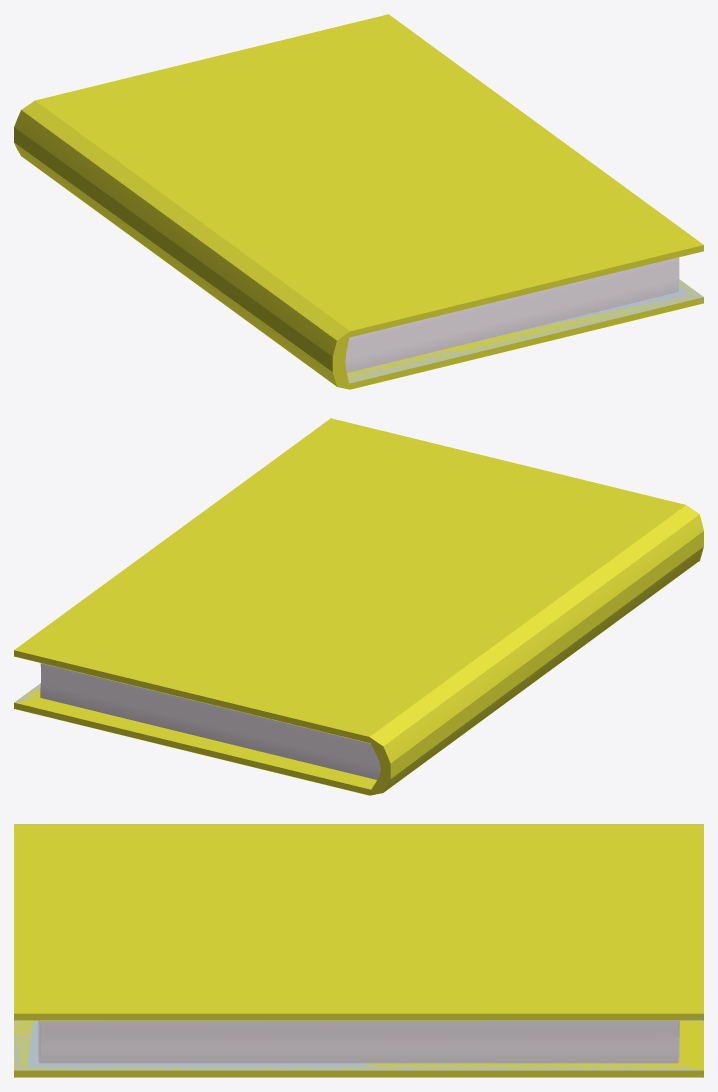
Rendered from book1.fbx.
3 renders of one model, top to bottom at view 1: azimuth 30°, elevation 25°; view 2: azimuth 150°, elevation 25°; view 3: azimuth 270°, elevation 25°, orthographic. The views are drawn at different scales.
Parts seen in each view (by area): view 1: Cube; view 2: Cube; view 3: Cube.
Part boxes in pixels (x1,y1,x2,y2): Cube: (14,14,703,389); Cube: (14,418,703,795); Cube: (14,824,703,1077).
Size of the model in its own units: 216 by 32.19 by 314.
